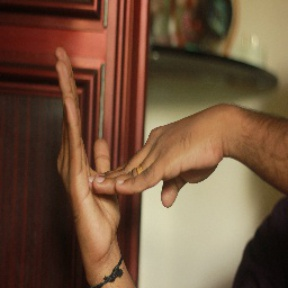Z: (50, 39, 229, 256)
